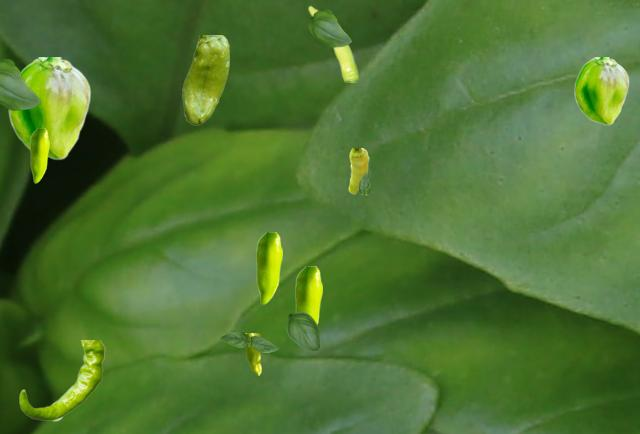green_chili: (8, 57, 90, 159), (19, 340, 104, 420), (182, 35, 228, 124), (308, 5, 357, 81), (574, 57, 628, 124), (256, 232, 281, 303), (295, 266, 321, 324), (30, 128, 48, 182), (348, 148, 368, 193), (245, 333, 260, 374)
